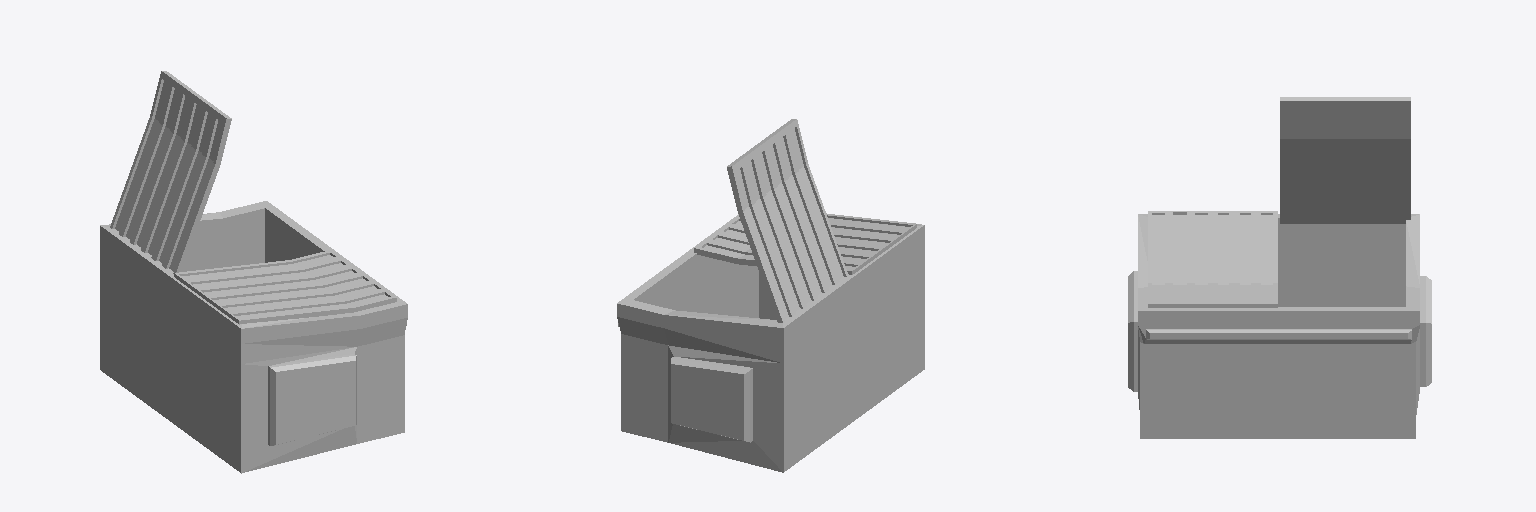
File: dumpster.obj
The picture shows the model from 3 angles: view 1: azimuth 30°, elevation 25°; view 2: azimuth 150°, elevation 25°; view 3: azimuth 270°, elevation 25°; orthographic projection.
Parts seen in each view (by area): view 1: Cube_Cube.001, Cube.001_Cube.002; view 2: Cube_Cube.001, Cube.001_Cube.002; view 3: Cube_Cube.001, Cube.001_Cube.002.
Boxes of the visible parts, x1=… form: Cube_Cube.001: x1=100, y1=201, x2=407, y2=473; Cube.001_Cube.002: x1=110, y1=71, x2=396, y2=324; Cube_Cube.001: x1=617, y1=214, x2=924, y2=472; Cube.001_Cube.002: x1=694, y1=119, x2=916, y2=322; Cube_Cube.001: x1=1128, y1=214, x2=1431, y2=438; Cube.001_Cube.002: x1=1148, y1=97, x2=1410, y2=307.
Size of the model in its own units: 0.197 by 0.3174 by 0.302.